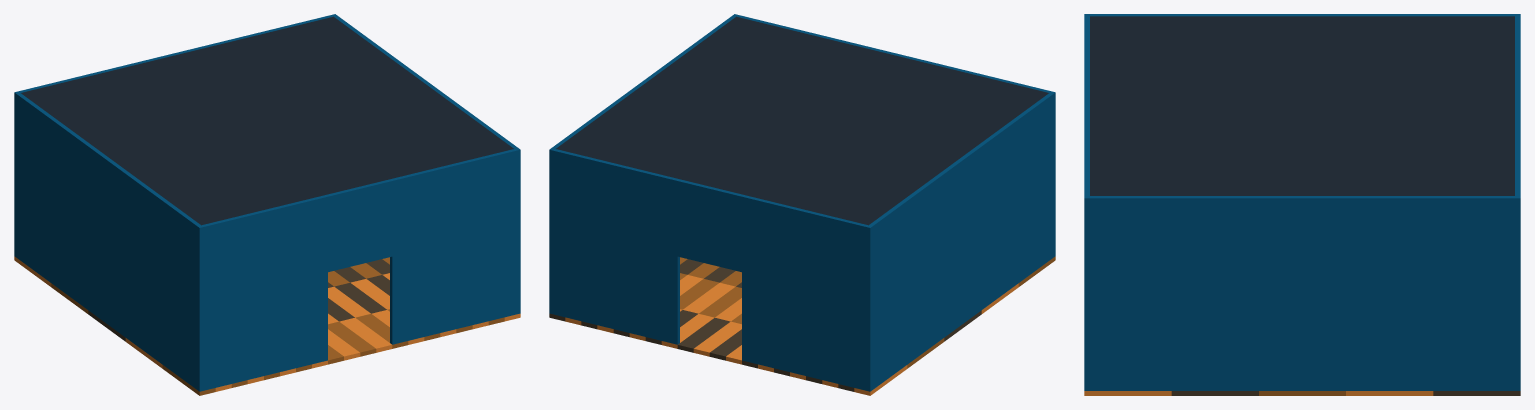
Rendered from room01.obj.
The picture shows the model from 3 angles, left to right: view 1: azimuth 30°, elevation 25°; view 2: azimuth 150°, elevation 25°; view 3: azimuth 270°, elevation 25°; orthographic projection. The views are drawn at different scales.
Size of the model in its own units: 8 by 4 by 8.
1 material, 1 textured.
